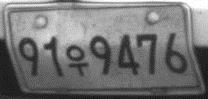1: (41, 35, 64, 78)
4: (116, 32, 140, 76)
6: (163, 32, 188, 74)
7: (135, 31, 158, 76)
9: (88, 34, 111, 75), (17, 36, 38, 77)
우: (65, 44, 89, 78)
